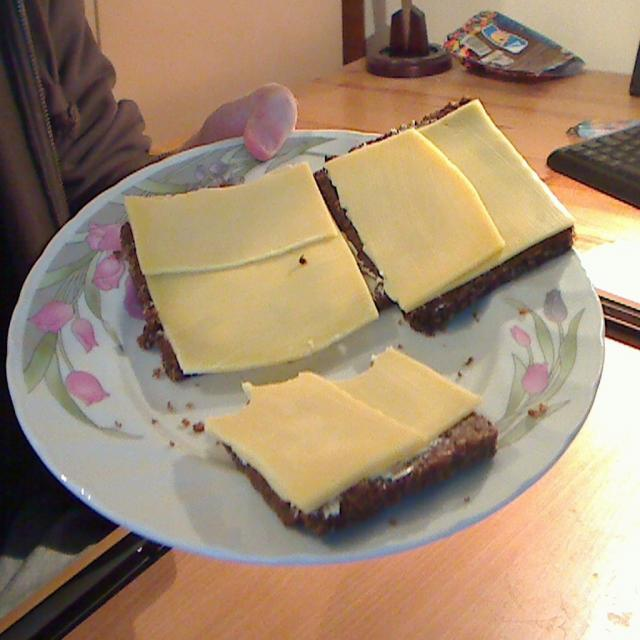Cheese: (324, 96, 578, 310), (323, 122, 507, 311), (143, 224, 381, 370), (202, 365, 424, 514), (126, 162, 339, 271), (331, 343, 483, 465)
